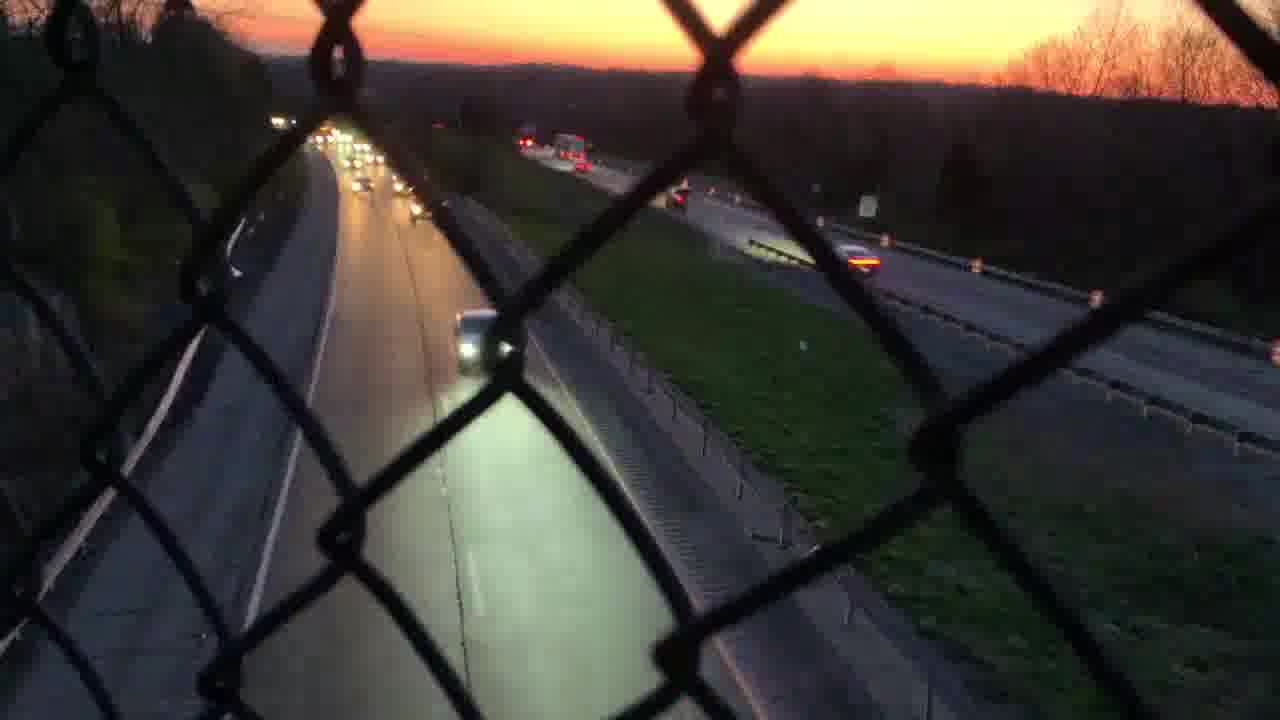lightTruck: (450, 309, 521, 377)
smallCar: (835, 241, 888, 276)
